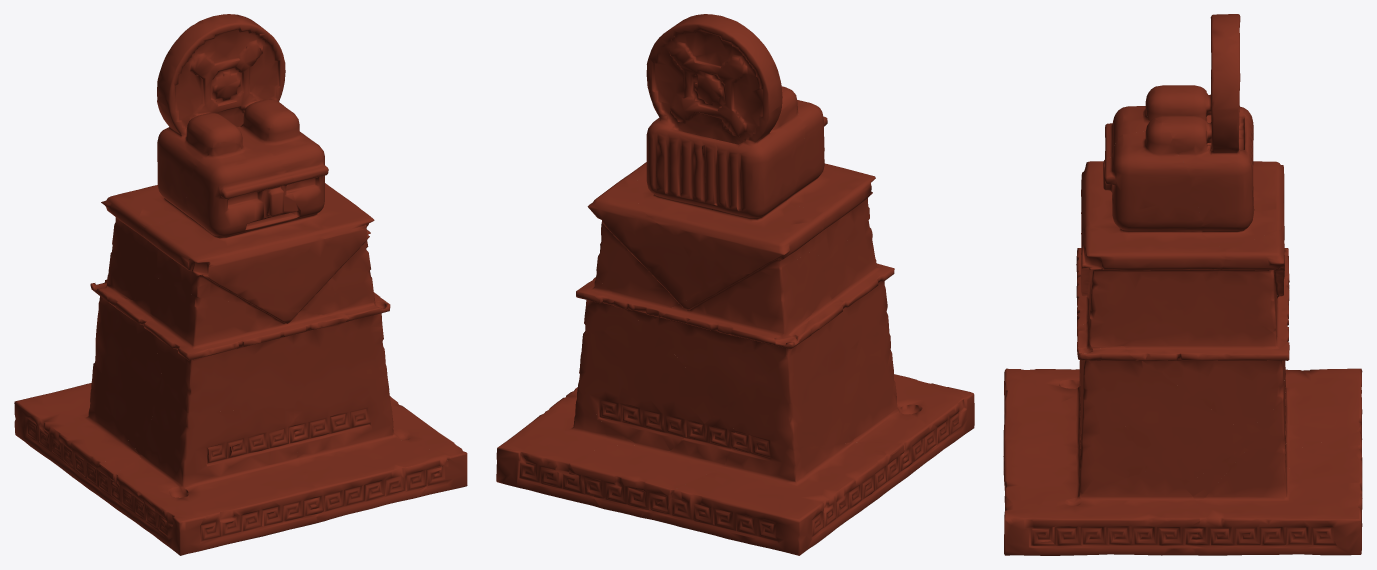
File: queen.glb
The picture shows the model from 3 angles, left to right: view 1: azimuth 30°, elevation 25°; view 2: azimuth 150°, elevation 25°; view 3: azimuth 270°, elevation 25°; orthographic projection. The views are drawn at different scales.
Visible parts, largest first — view 1: chunk_08, chunk_15, chunk_07, chunk_05, chunk_00, chunk_12, chunk_14, chunk_03, chunk_16, chunk_10; view 2: chunk_07, chunk_03, chunk_11, chunk_10, chunk_14, chunk_13, chunk_08, chunk_04, chunk_15, chunk_00, chunk_06, chunk_09; view 3: chunk_12, chunk_07, chunk_04, chunk_09, chunk_16, chunk_02, chunk_05, chunk_08, chunk_13, chunk_03, chunk_11, chunk_15 (+3 smaller).
Part boxes in pixels (bbox=[...]): chunk_08: bbox=[113, 379, 317, 555]; chunk_15: bbox=[142, 142, 349, 319]; chunk_07: bbox=[101, 14, 288, 249]; chunk_05: bbox=[293, 303, 450, 522]; chunk_00: bbox=[145, 274, 346, 412]; chunk_12: bbox=[259, 110, 378, 317]; chunk_14: bbox=[91, 291, 162, 480]; chunk_03: bbox=[14, 383, 139, 510]; chunk_16: bbox=[390, 396, 467, 497]; chunk_10: bbox=[90, 224, 150, 300]; chunk_07: bbox=[628, 14, 824, 274]; chunk_03: bbox=[664, 431, 909, 555]; chunk_11: bbox=[570, 320, 720, 517]; chunk_10: bbox=[649, 250, 826, 410]; chunk_14: bbox=[722, 291, 903, 454]; chunk_13: bbox=[587, 180, 728, 322]; chunk_08: bbox=[854, 332, 974, 474]; chunk_04: bbox=[496, 387, 606, 508]; chunk_15: bbox=[787, 100, 875, 263]; chunk_00: bbox=[824, 218, 894, 336]; chunk_06: bbox=[641, 411, 735, 522]; chunk_09: bbox=[576, 277, 638, 337]; chunk_12: bbox=[1077, 119, 1225, 349]; chunk_07: bbox=[1146, 14, 1284, 249]; chunk_04: bbox=[1195, 449, 1362, 555]; chunk_09: bbox=[1123, 289, 1289, 432]; chunk_16: bbox=[1004, 470, 1199, 555]; chunk_02: bbox=[1084, 346, 1245, 481]; chunk_05: bbox=[1003, 335, 1148, 511]; chunk_08: bbox=[1003, 360, 1081, 447]; chunk_13: bbox=[1213, 228, 1289, 345]; chunk_03: bbox=[1285, 367, 1362, 444]; chunk_11: bbox=[1244, 360, 1362, 483]; chunk_15: bbox=[1077, 99, 1148, 334].
Bounding box in the file's own units: 0.7629 × 1.09 × 0.7631.
